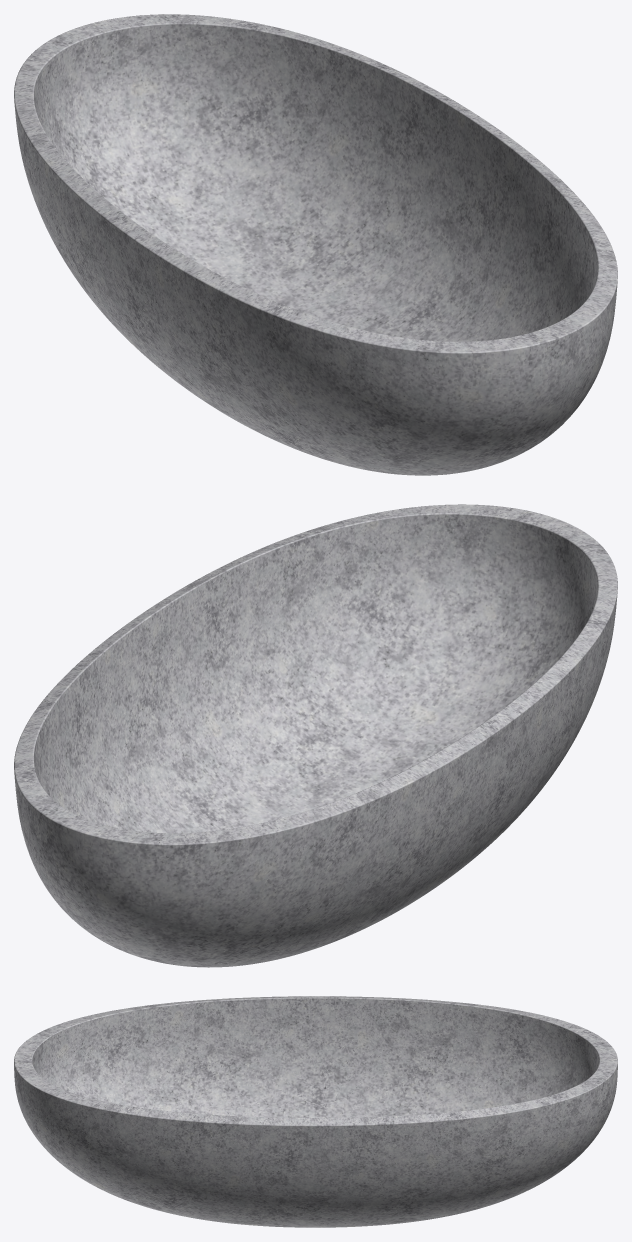
File: Bathtub_sample_01.gltf
The picture shows the model from 3 angles, top to bottom: view 1: azimuth 30°, elevation 25°; view 2: azimuth 150°, elevation 25°; view 3: azimuth 270°, elevation 25°; orthographic projection. The views are drawn at different scales.
Parts seen in each view (by area): view 1: Bathtub_sample; view 2: Bathtub_sample; view 3: Bathtub_sample.
Boxes of the visible parts, bbox=[...] form: Bathtub_sample: bbox=[14, 14, 617, 475]; Bathtub_sample: bbox=[14, 504, 617, 967]; Bathtub_sample: bbox=[14, 996, 617, 1227].
Size of the model in its own units: 0.8412 by 0.4625 by 1.66.
1 material, 1 textured.
